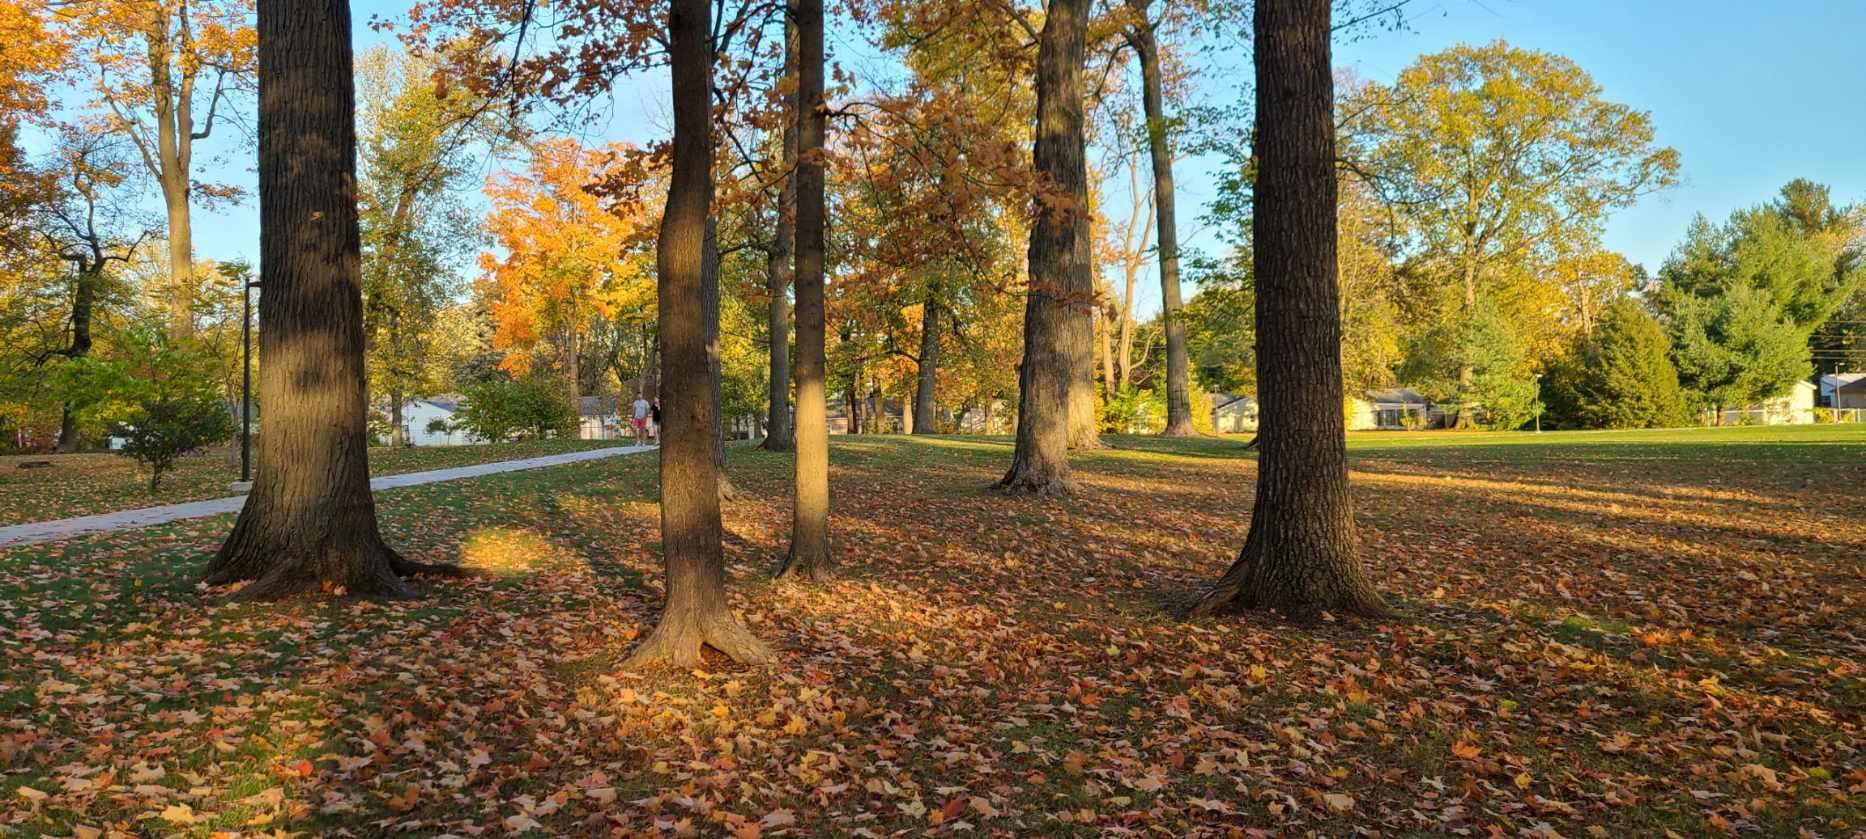tree: (213, 1, 405, 600), (1217, 1, 1377, 611), (649, 1, 737, 655), (1006, 1, 1085, 489), (1129, 1, 1200, 439), (789, 2, 837, 566), (146, 4, 213, 387), (913, 5, 957, 437), (766, 183, 789, 446)
